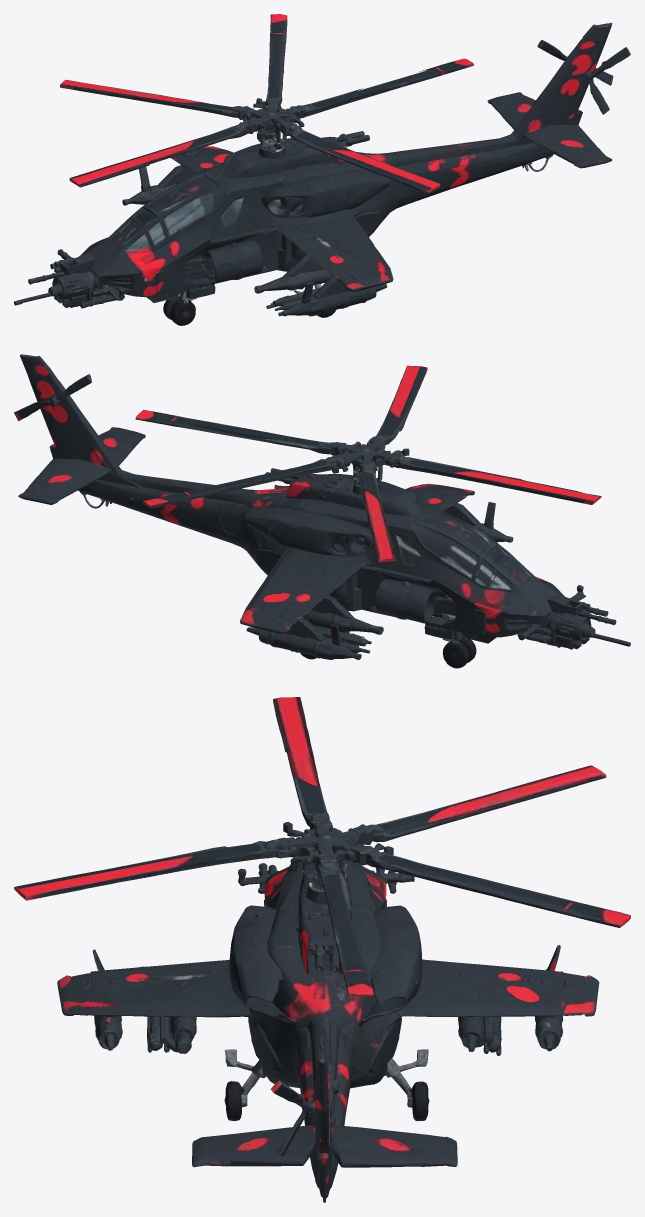
File: helico-ennemi-1.glb
The picture shows the model from 3 angles, top to bottom: view 1: azimuth 30°, elevation 25°; view 2: azimuth 150°, elevation 25°; view 3: azimuth 270°, elevation 25°; orthographic projection. The views are drawn at different scales.
Size of the model in its own units: 1.9 by 0.6034 by 1.17.
Materials: 1 (1 with a texture image).
